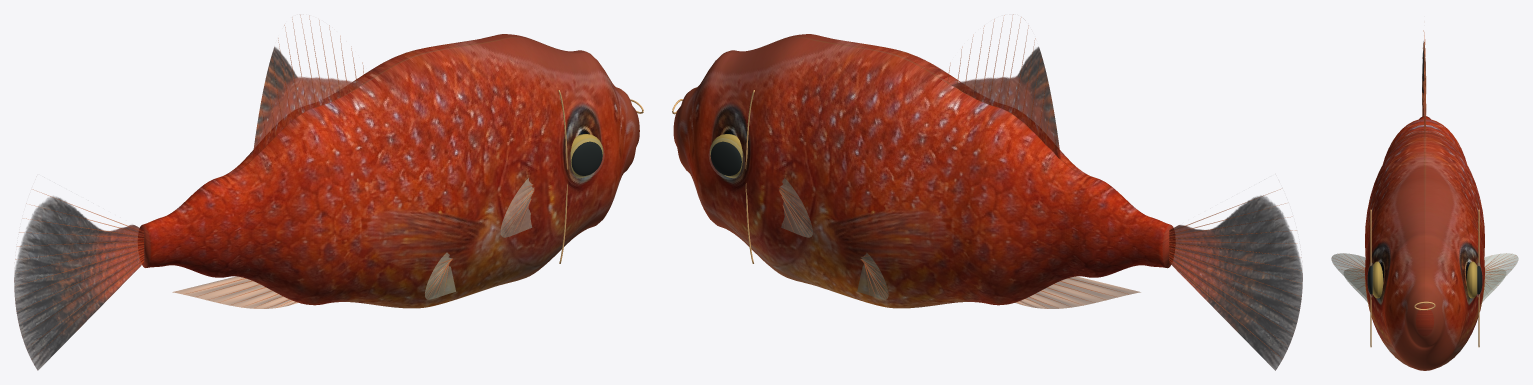
File: platy-desktop.glb
3 renders of one model, left to right at view 1: azimuth 30°, elevation 25°; view 2: azimuth 150°, elevation 25°; view 3: azimuth 270°, elevation 25°, orthographic. The views are drawn at different scales.
Visible parts, largest first — view 1: skin, tail, dorsal, dorsal-ray, anal, pectoral-right, pelvic-right, eye-pupil--1; view 2: skin, tail, dorsal, dorsal-ray, anal, pectoral-left, pelvic-left, eye-pupil--1; view 3: skin, pectoral-left, pectoral-right, eye-iris--1, dorsal-ray, operculum, pelvic-right, pelvic-left, eye-pupil--1.
Part boxes in pixels (left/top/right/bottom): skin: left=138, top=34, right=639, bottom=308; tail: left=14, top=196, right=144, bottom=370; dorsal: left=252, top=46, right=360, bottom=158; dorsal-ray: left=15, top=15, right=534, bottom=353; anal: left=172, top=276, right=297, bottom=308; pectoral-right: left=500, top=178, right=534, bottom=237; pelvic-right: left=425, top=252, right=455, bottom=299; eye-pupil--1: left=571, top=141, right=602, bottom=175; skin: left=673, top=34, right=1174, bottom=308; tail: left=1169, top=195, right=1302, bottom=370; dorsal: left=952, top=46, right=1060, bottom=159; dorsal-ray: left=779, top=15, right=1301, bottom=356; anal: left=1015, top=276, right=1140, bottom=308; pectoral-left: left=779, top=178, right=812, bottom=237; pelvic-left: left=857, top=253, right=888, bottom=299; eye-pupil--1: left=710, top=141, right=741, bottom=175; skin: left=1365, top=116, right=1484, bottom=370; pectoral-left: left=1483, top=253, right=1518, bottom=298; pectoral-right: left=1331, top=253, right=1366, bottom=298; eye-iris--1: left=1372, top=261, right=1477, bottom=298; dorsal-ray: left=1337, top=30, right=1515, bottom=289; operculum: left=1370, top=209, right=1479, bottom=347; pelvic-right: left=1344, top=268, right=1367, bottom=301; pelvic-left: left=1482, top=269, right=1505, bottom=301; eye-pupil--1: left=1367, top=266, right=1482, bottom=294.
Bounding box in the file's own units: 0.5972 × 0.2917 × 0.1964.
11 materials, 3 textured.
